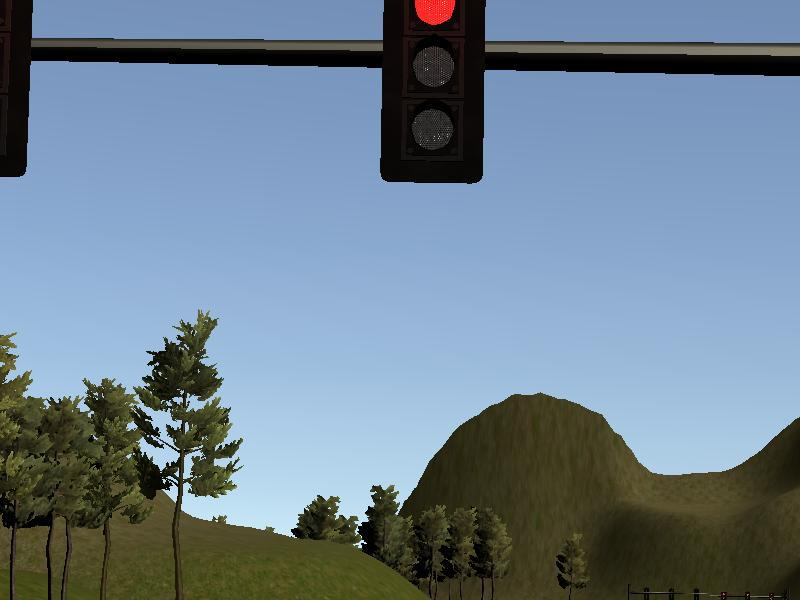Red: (386, 1, 479, 180)
